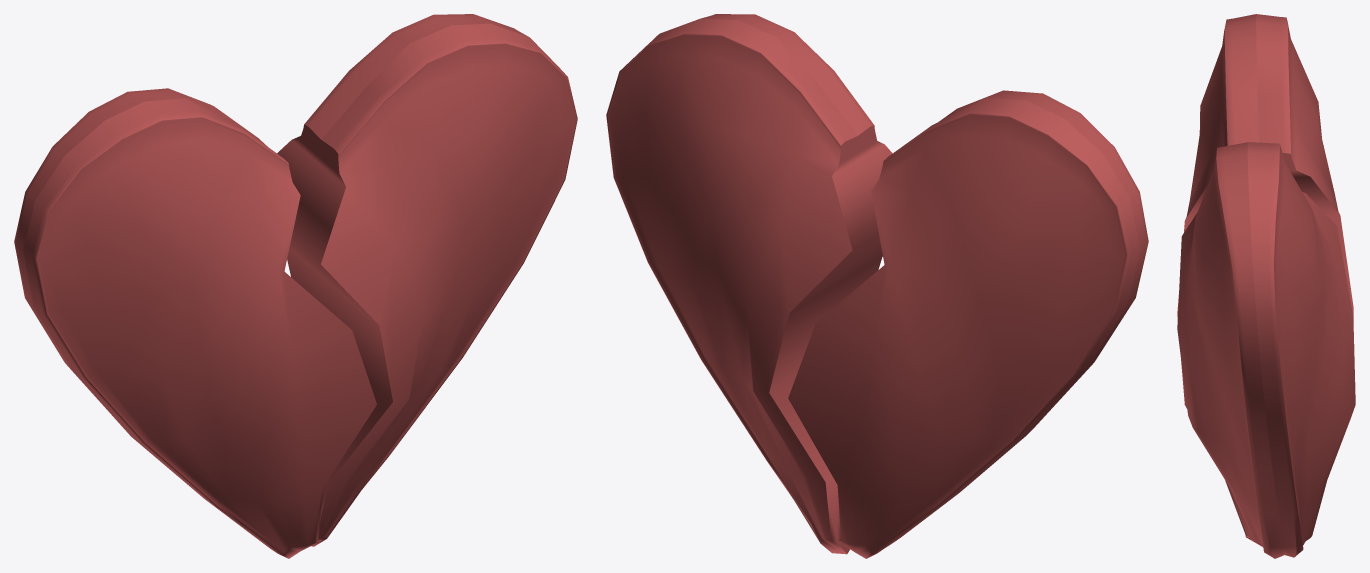
File: Broken Heart.fbx
3 views of the same model, side by side, from view 1: azimuth 30°, elevation 25°; view 2: azimuth 150°, elevation 25°; view 3: azimuth 270°, elevation 25° (orthographic). The views are drawn at different scales.
Visible parts, largest first — view 1: polySurface3; view 2: polySurface3; view 3: polySurface3.
Part boxes in pixels (box(x1,y1,x2,y2)): polySurface3: box(14, 14, 577, 558); polySurface3: box(606, 14, 1148, 558); polySurface3: box(1177, 14, 1355, 558).
Size of the model in its own units: 3.74 by 3.31 by 1.16.
